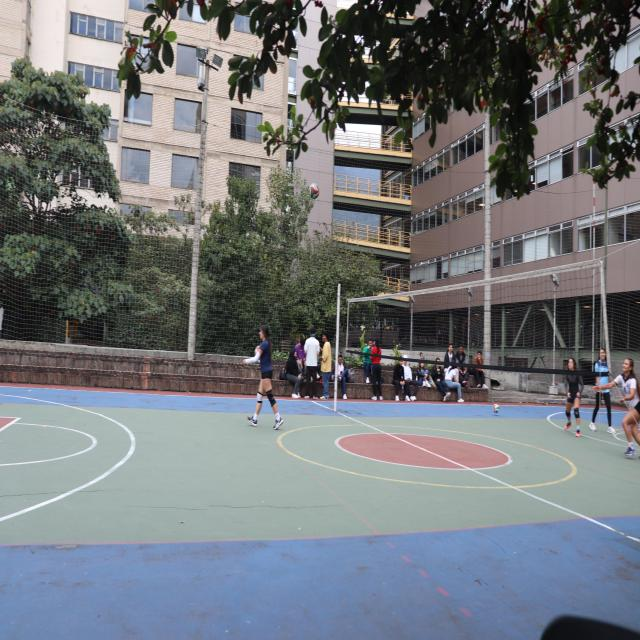volleyball: (309, 183, 319, 200), (493, 404, 499, 414)
